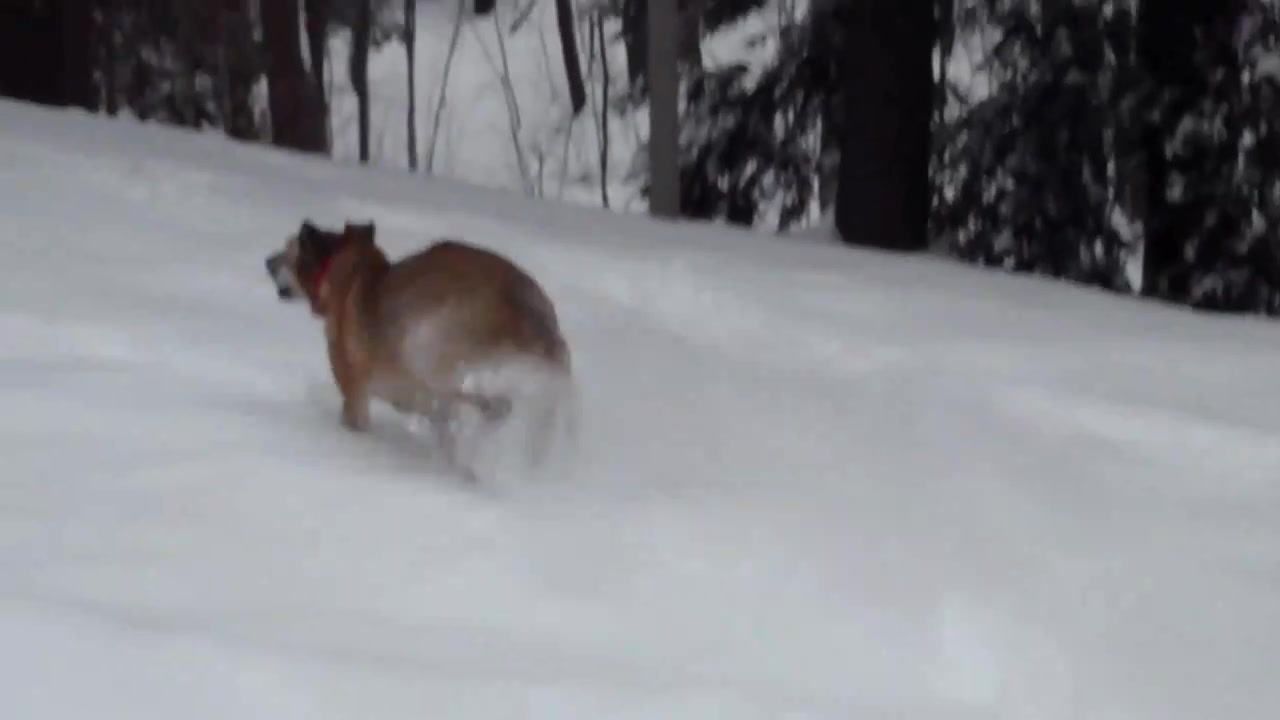dog: (259, 215, 578, 481)
